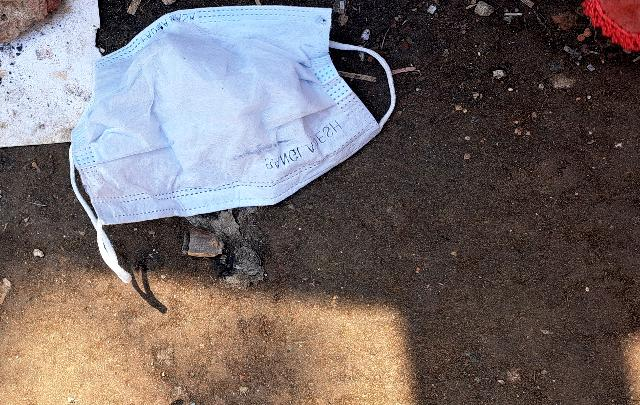mask: (28, 0, 421, 241)
